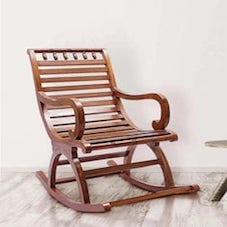chair: (3, 17, 205, 222)
